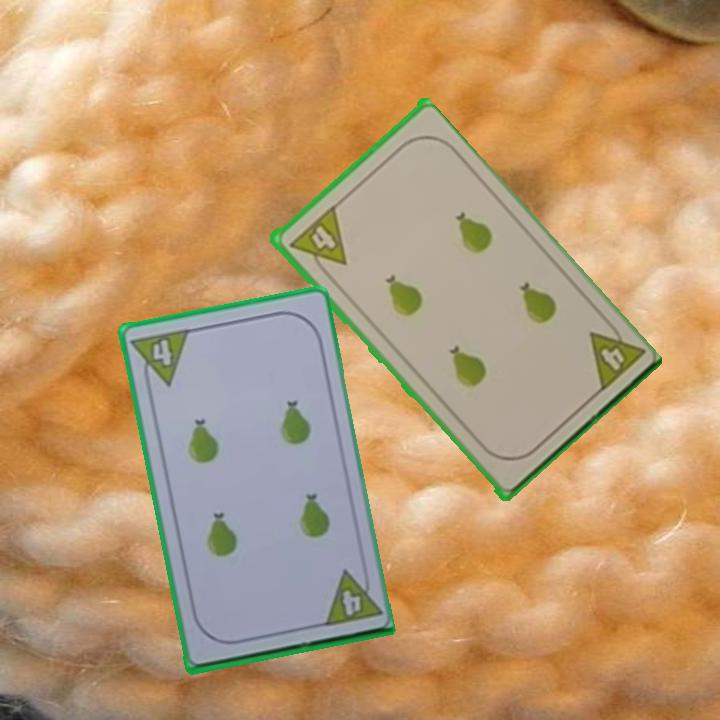4p: (584, 314, 647, 396), (285, 203, 349, 281), (127, 325, 192, 392), (318, 564, 383, 629)
